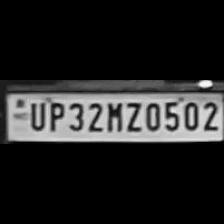0: (142, 100, 162, 132), (181, 98, 199, 132)
2: (200, 98, 220, 132), (85, 100, 103, 132)
3: (65, 100, 85, 132)
5: (161, 98, 181, 132)
M: (103, 100, 123, 132)
P: (45, 100, 65, 132)
U: (24, 99, 46, 131)
Z: (123, 99, 141, 133)
